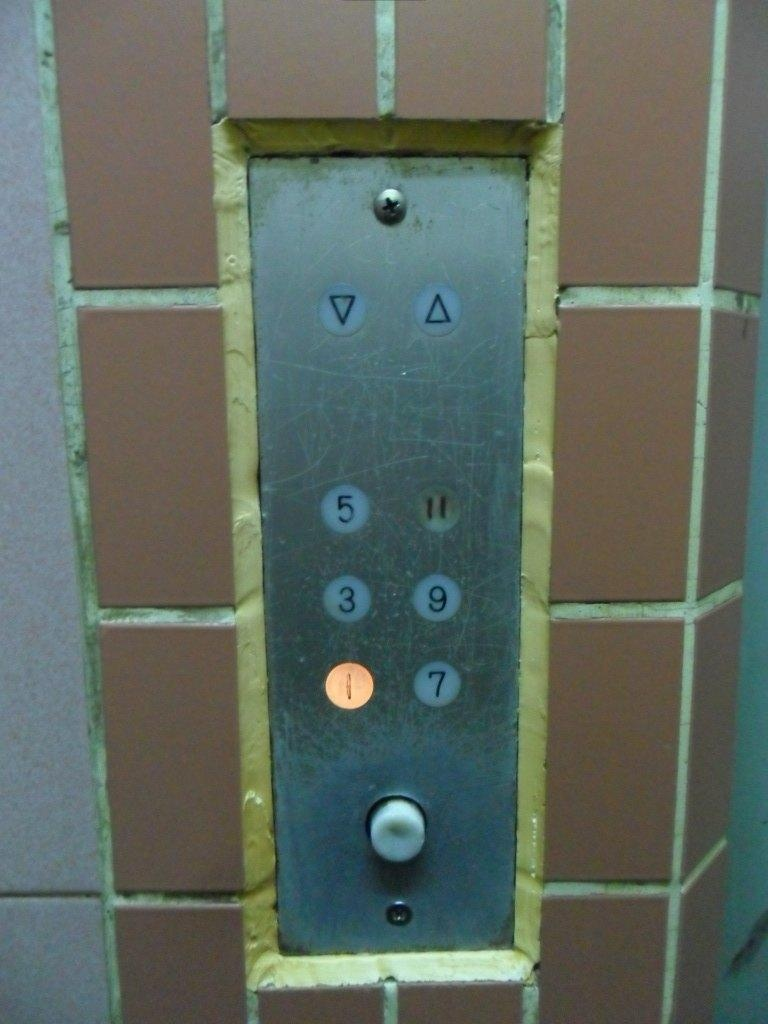1: (324, 661, 373, 710)
11: (411, 483, 462, 534)
3: (323, 574, 372, 625)
5: (321, 483, 370, 535)
7: (411, 660, 461, 709)
9: (410, 570, 461, 624)
down: (316, 281, 366, 335)
empty: (363, 794, 429, 866)
up: (412, 281, 464, 337)
